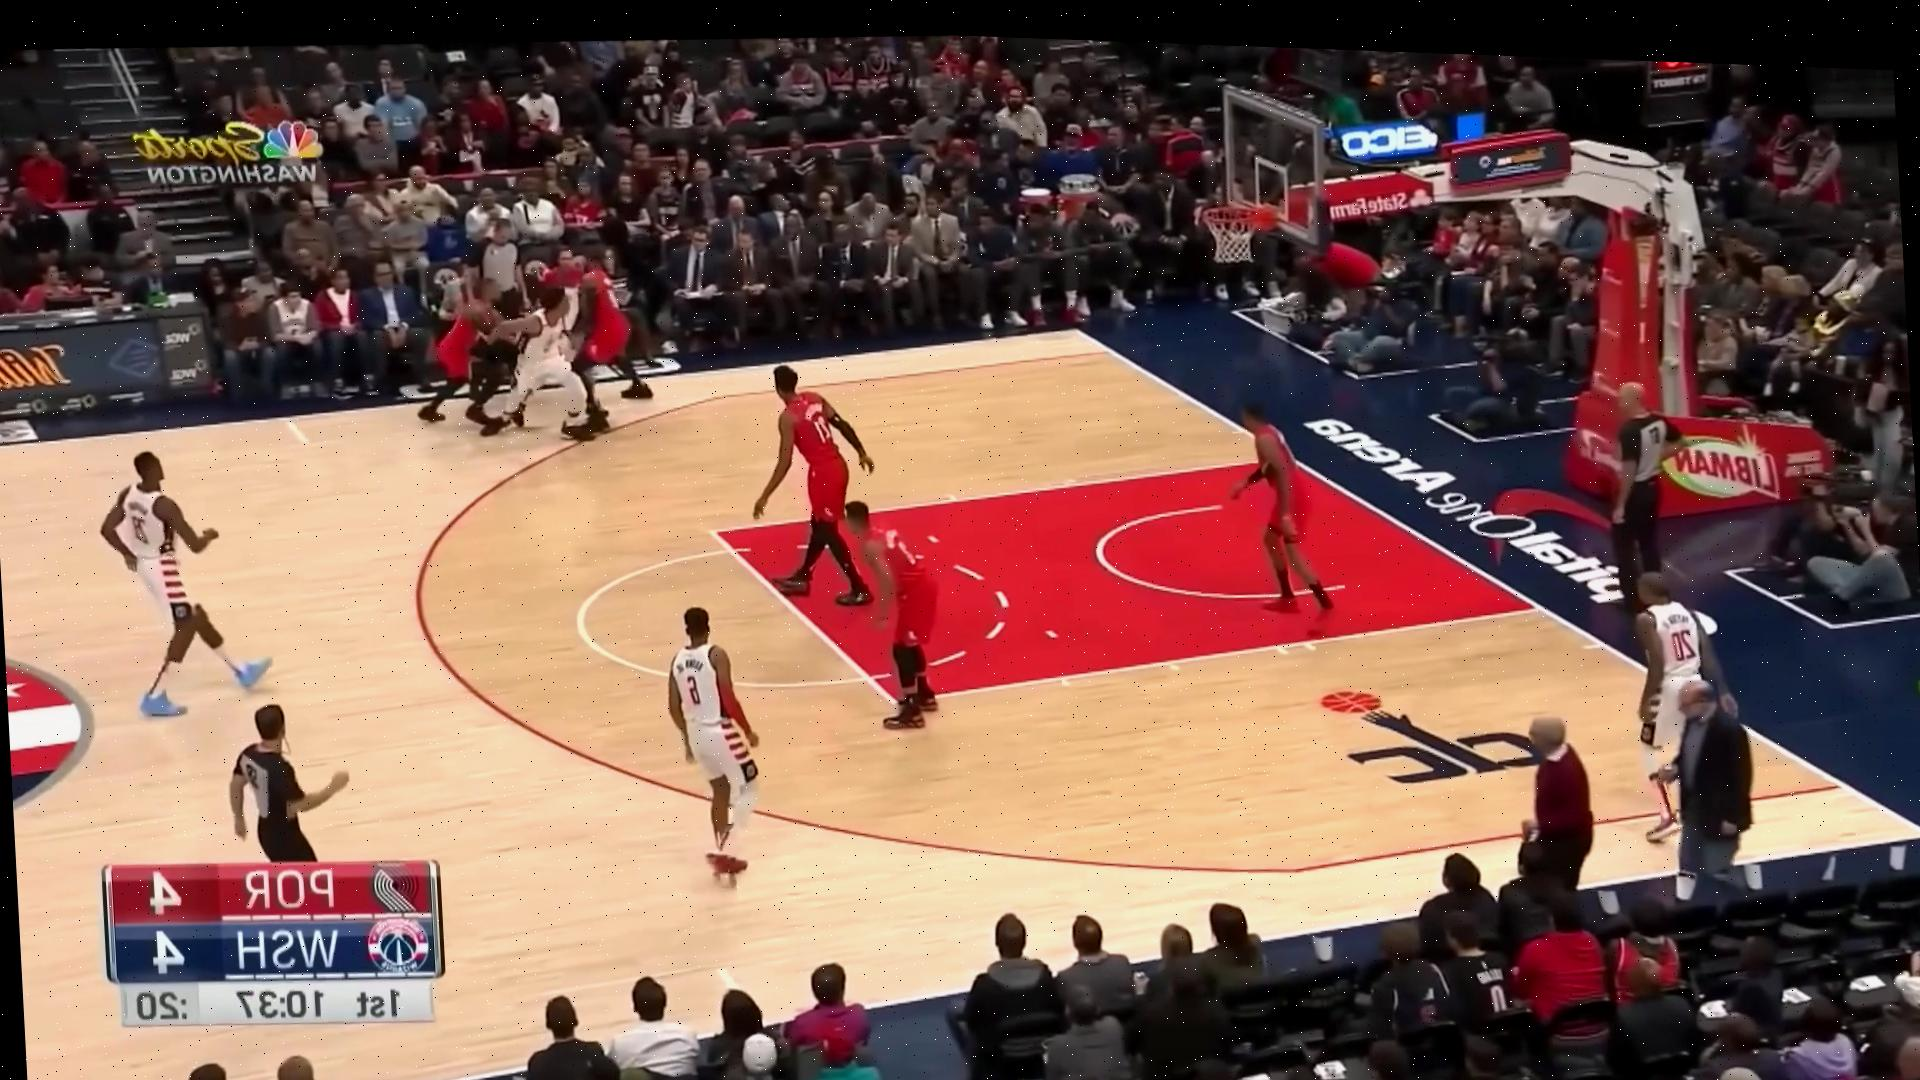foul: (400, 254, 632, 469)
